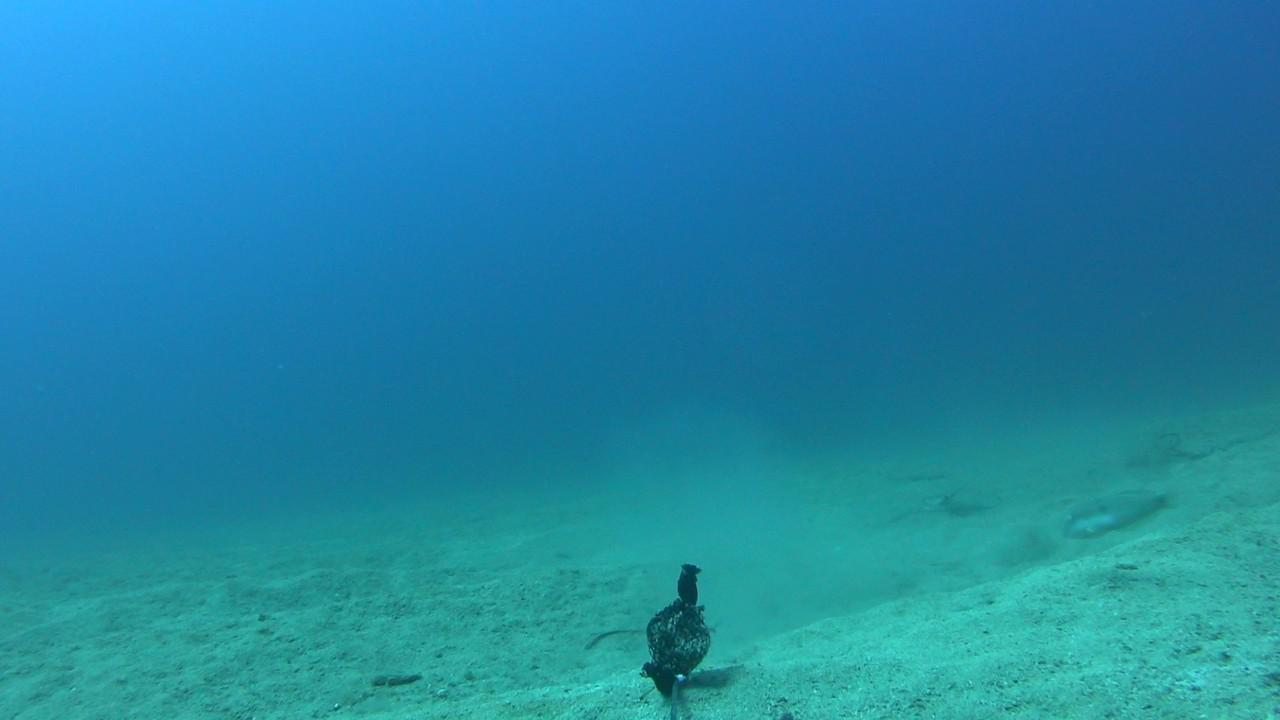myliobatis: (885, 474, 1019, 521)
raor: (1062, 487, 1176, 542)
